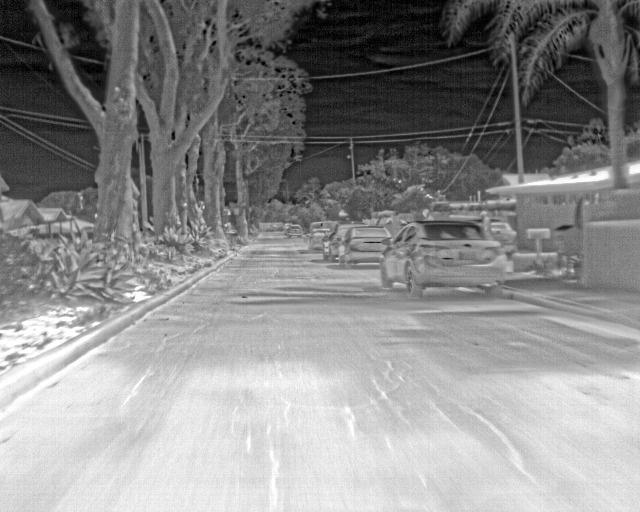car: (378, 218, 509, 301), (334, 226, 393, 268), (322, 224, 344, 259), (308, 224, 330, 250), (489, 220, 516, 240), (287, 224, 305, 239)
